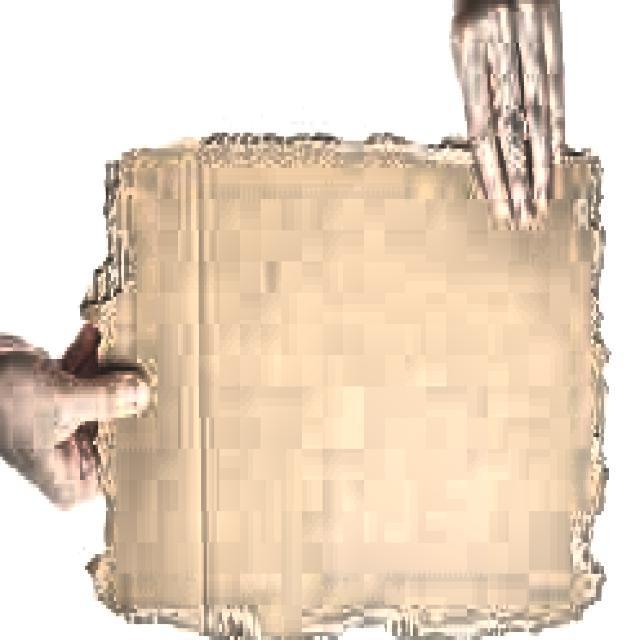cardboard: (77, 133, 611, 640)
